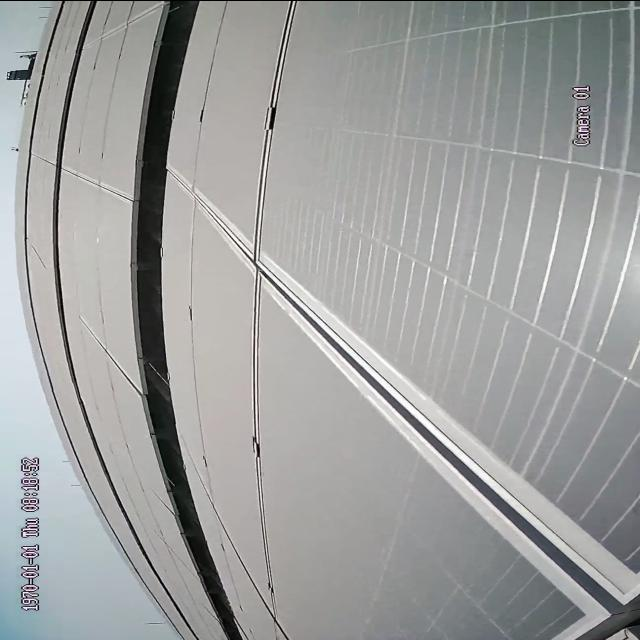interior panel: (174, 0, 627, 611), (83, 315, 135, 388), (90, 5, 146, 49), (68, 163, 129, 202)
outher panel: (133, 1, 251, 640)
